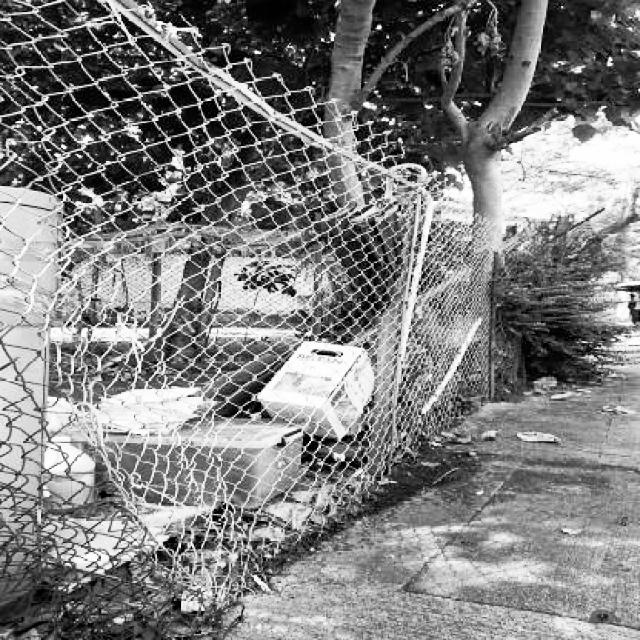anomaly-fence: (0, 284, 285, 638)
